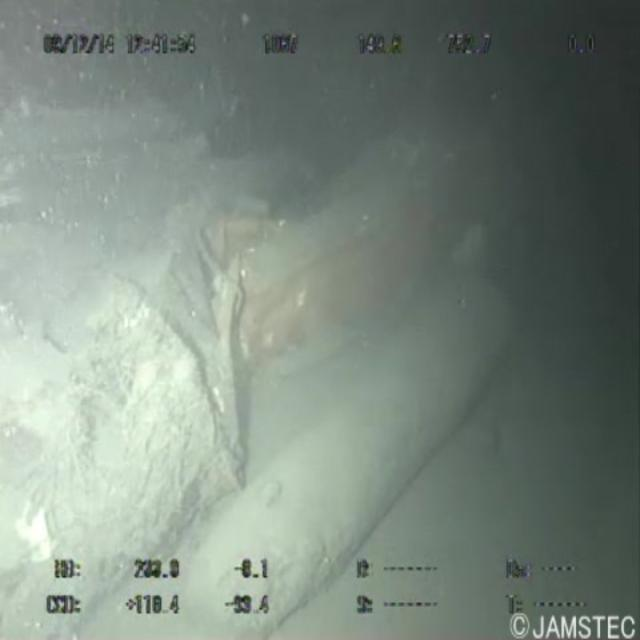Wood: (0, 137, 566, 628)
